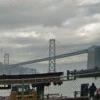Bridge: (2, 50, 94, 84)
